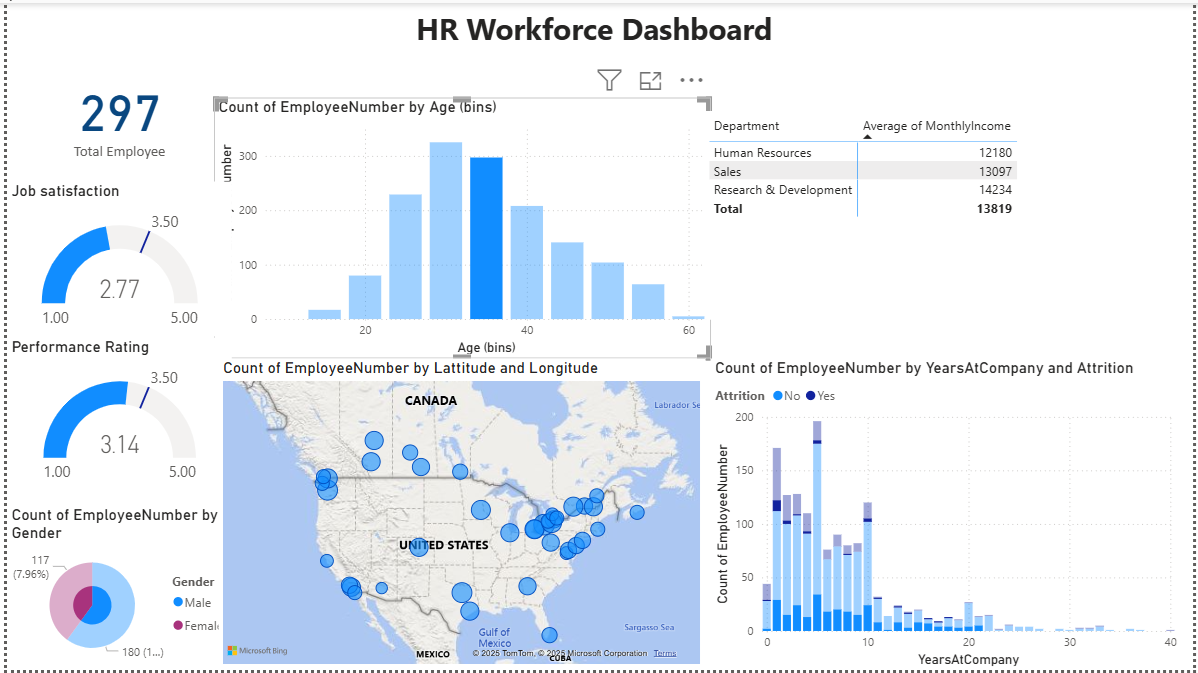

What the dashboard file says about the page in this screenshot:
{"tool":"powerbi","page":{"name":"Page 1","canvas":[1280,720],"ordinal":0},"visuals":[{"type":"card","fields":{"Values":["CountNonNull(HRIS.EmployeeNumber)"]},"box":[0,47.8,242.6,145.2],"z":0},{"type":"pieChart","fields":{"Category":["HRIS.Gender"],"Y":["CountNonNull(HRIS.EmployeeNumber)"]},"box":[0,543.2,249.4,175.9],"z":1000},{"type":"columnChart","fields":{"Category":["HRIS.Age (bins)"],"Y":["CountNonNull(HRIS.EmployeeNumber)"]},"box":[223.8,102.5,536.4,281.9],"z":2000},{"type":"pivotTable","fields":{"Rows":["HRIS.Department"],"Values":["Avg(HRIS.MonthlyIncome)"]},"box":[752.9,116.6,514.9,225.1],"z":3000},{"type":"gauge","title":"Job satisfaction","fields":{"Y":["Avg(Engagement Survey.JobSatisfaction)"]},"box":[0,193,242.6,167.4],"z":4000},{"type":"gauge","title":"Performance Rating","fields":{"Y":["Avg(HRIS.PerformanceRating)"]},"box":[0,360.4,242.6,165.7],"z":5000},{"type":"textbox","box":[0,0,1267.5,68.3],"z":6000},{"type":"map","fields":{"Y":["GEO DATA.Lattitude"],"X":["GEO DATA.Longitude"],"Size":["CountNonNull(HRIS.EmployeeNumber)"]},"box":[228.9,384.3,524.4,334.8],"z":7000},{"type":"columnChart","fields":{"Category":["HRIS.YearsAtCompany"],"Y":["CountNonNull(HRIS.EmployeeNumber)"],"Series":["HRIS.Attrition"]},"box":[759.4,383.8,508.4,336.8],"z":7001}]}

Visuals, with their boxes in screenshot pixels (x1, y1, x2, y2), scaled from the page's 1280x720 canvas onto the 1198x673 screenshot:
card - CountNonNull(HRIS.EmployeeNumber): bbox=[0, 45, 227, 180]
pieChart - HRIS.Gender x CountNonNull(HRIS.EmployeeNumber): bbox=[0, 508, 233, 672]
columnChart - HRIS.Age (bins) x CountNonNull(HRIS.EmployeeNumber): bbox=[209, 96, 711, 359]
pivotTable - HRIS.Department x Avg(HRIS.MonthlyIncome): bbox=[705, 109, 1187, 319]
"Job satisfaction" gauge: bbox=[0, 180, 227, 337]
"Performance Rating" gauge: bbox=[0, 337, 227, 492]
textbox: bbox=[0, 0, 1186, 64]
map - GEO DATA.Lattitude x GEO DATA.Longitude: bbox=[214, 359, 705, 672]
columnChart - HRIS.YearsAtCompany x CountNonNull(HRIS.EmployeeNumber): bbox=[711, 359, 1187, 672]
